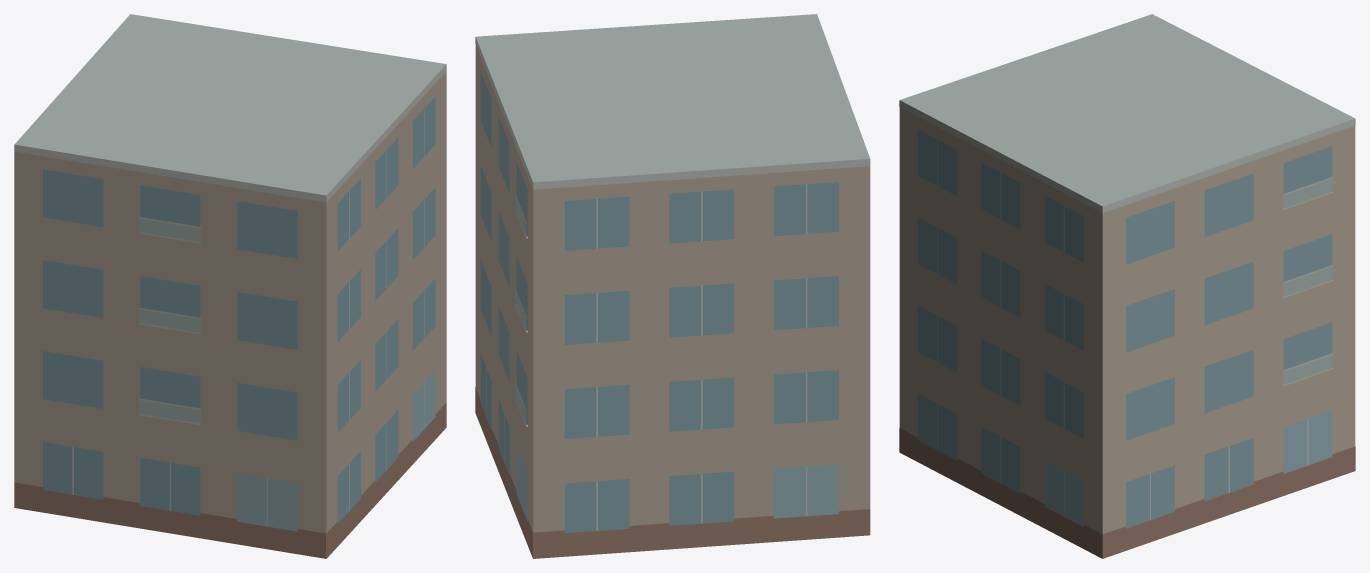
Rendered from survey-upis-32754517.glb.
The picture shows the model from 3 angles, left to right: view 1: azimuth 30°, elevation 25°; view 2: azimuth 150°, elevation 25°; view 3: azimuth 270°, elevation 25°; orthographic projection. The views are drawn at different scales.
Visible parts, largest first — view 1: survey-upis-32754517.tmp; view 2: survey-upis-32754517.tmp; view 3: survey-upis-32754517.tmp.
Part boxes in pixels (x1=…): survey-upis-32754517.tmp: x1=14, y1=14, x2=446, y2=558; survey-upis-32754517.tmp: x1=475, y1=14, x2=870, y2=558; survey-upis-32754517.tmp: x1=899, y1=14, x2=1355, y2=558.
Bounding box in the file's own units: 14.77 × 12.6 × 14.78.
